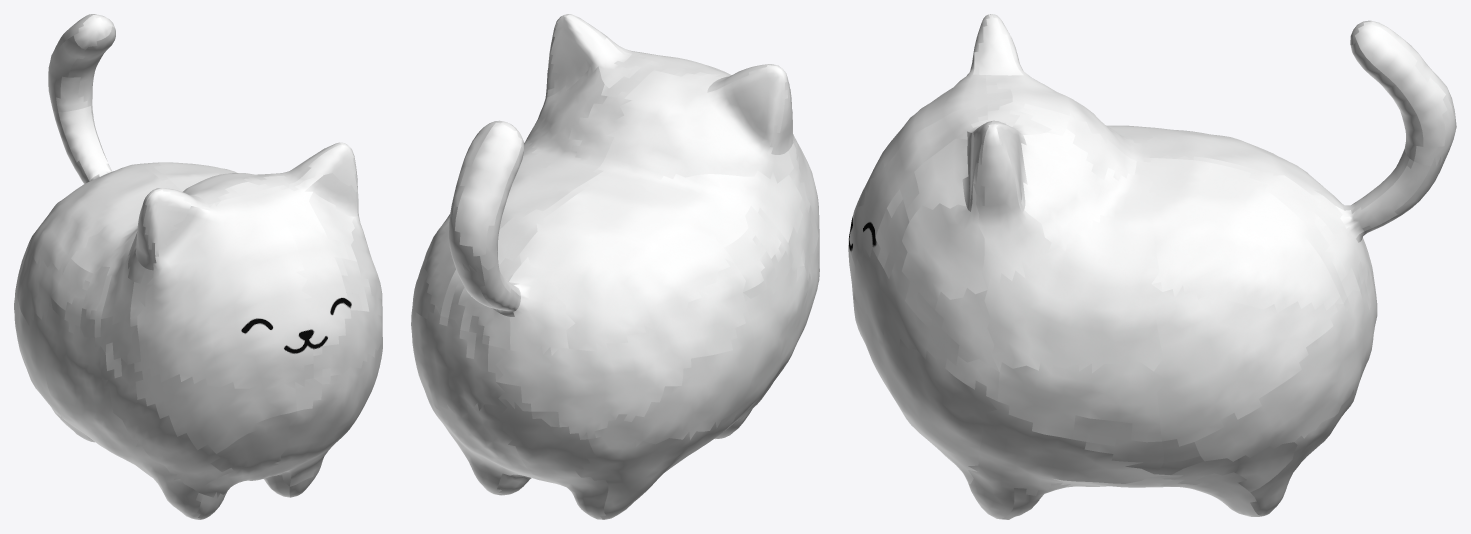
The model's file is prop_cat.glb.
3 renders of one model, left to right at view 1: azimuth 30°, elevation 25°; view 2: azimuth 150°, elevation 25°; view 3: azimuth 270°, elevation 25°, orthographic. The views are drawn at different scales.
Bounding box in the file's own units: 1.25 × 1.61 × 1.9.
1 material, 1 textured.
